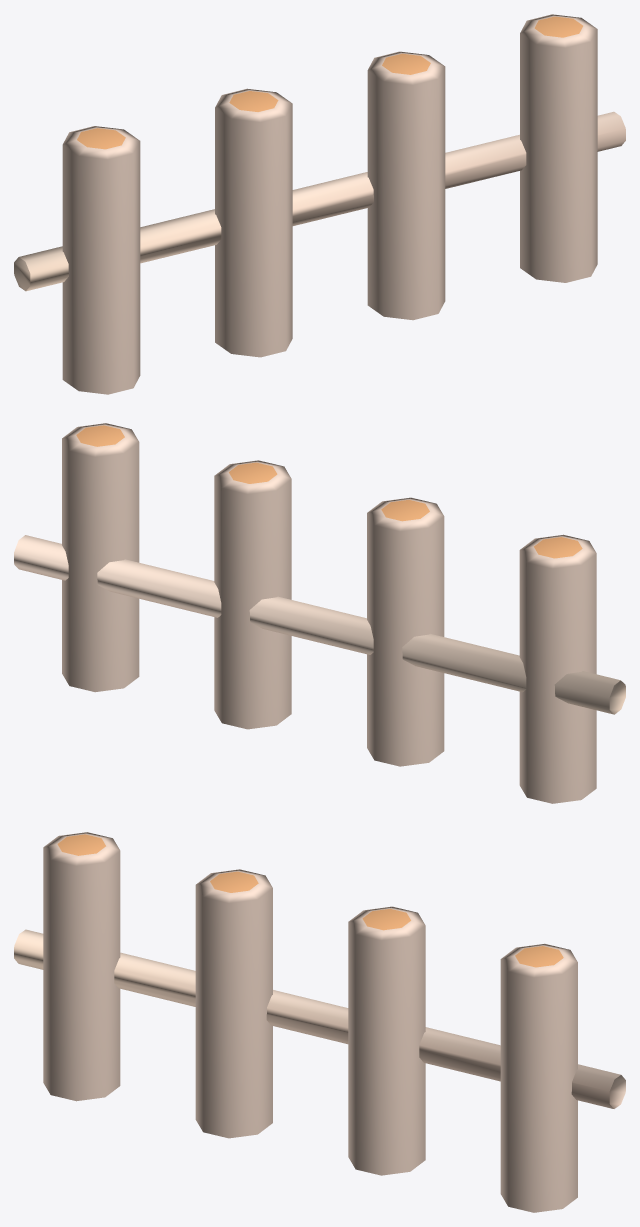
Rendered from Furniture_Partition_1.fbx.
The picture shows the model from 3 angles, top to bottom: view 1: azimuth 30°, elevation 25°; view 2: azimuth 150°, elevation 25°; view 3: azimuth 330°, elevation 25°; orthographic projection.
Visible parts, largest first — view 1: Furniture_Partition_1; view 2: Furniture_Partition_1; view 3: Furniture_Partition_1.
Boxes of the visible parts, x1,y1,x2,y2 form: Furniture_Partition_1: (14,14,625,394); Furniture_Partition_1: (14,423,625,803); Furniture_Partition_1: (14,832,625,1212).
Size of the model in its own units: 175 by 67.27 by 19.32.
